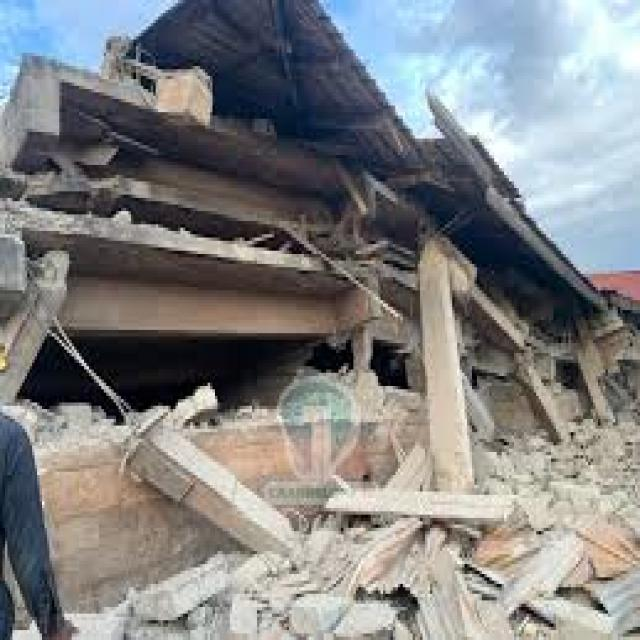collapsed building: (0, 0, 639, 610)
